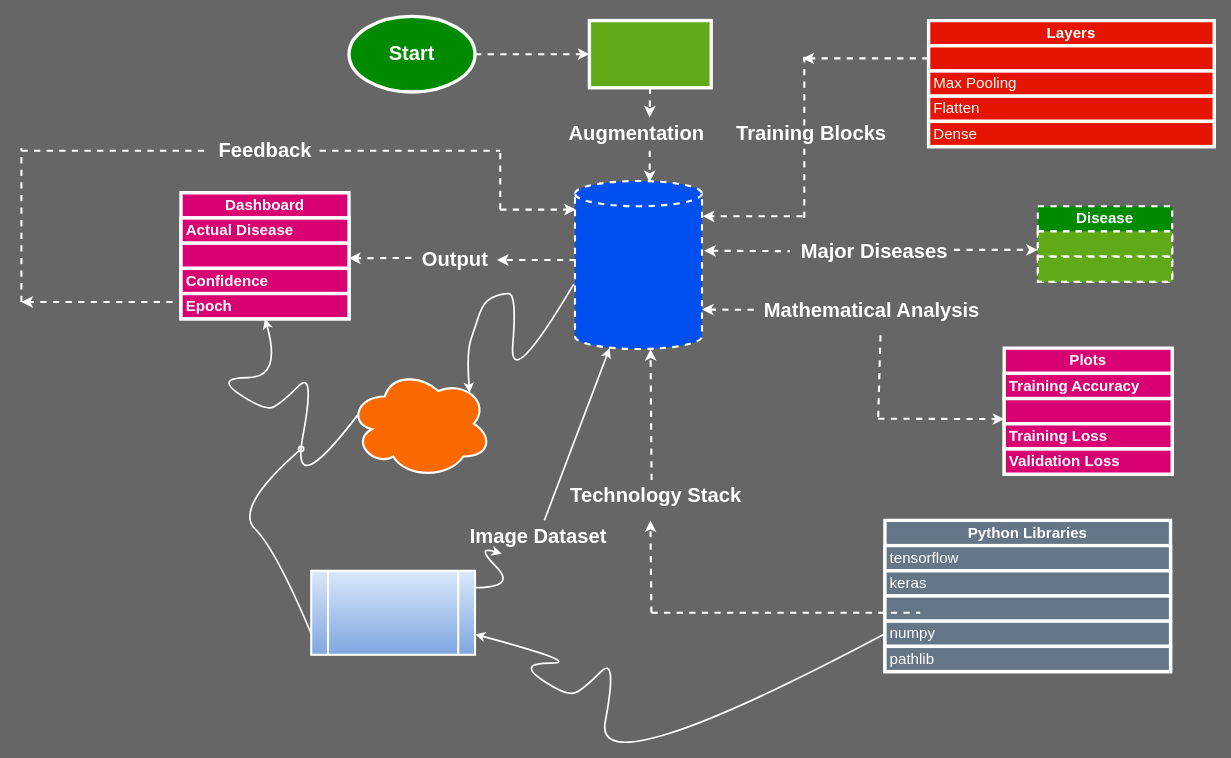
Some shapes in this 1231 by 758 pixel diagram are drawn without their labels. The shapes that lost their labels are listed below. From the top down, each one's centre as x and y in pixels, then its label:
pixel 649 53: Image Data
pixel 1071 58: Sequential Layer
pixel 264 255: Predicted Disease
pixel 1104 243: Early blight
pixel 638 265: 2D Convolution Layer
pixel 1104 268: Late blight
pixel 420 423: Model Accuracy > 97%
pixel 1087 410: Validation Accuracy
pixel 393 612: Potato Images
pixel 1027 608: matplotlib
